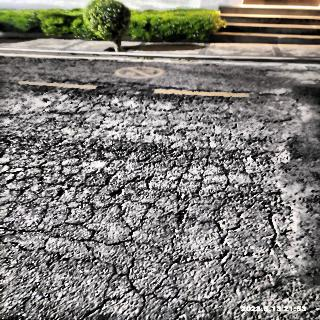alligator-crack: (7, 138, 264, 232), (85, 246, 254, 320), (2, 92, 210, 142)
